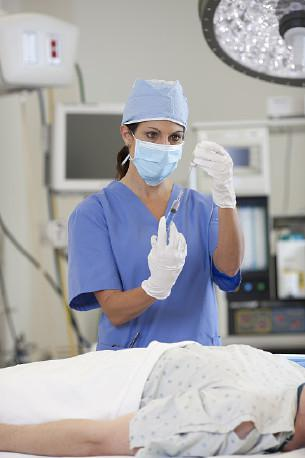OK: (129, 122, 194, 187)
